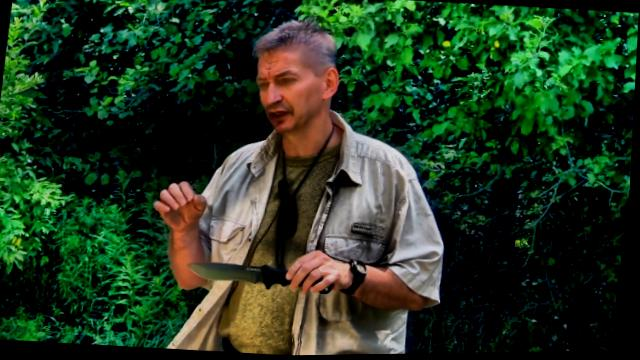knife: (184, 240, 341, 299)
